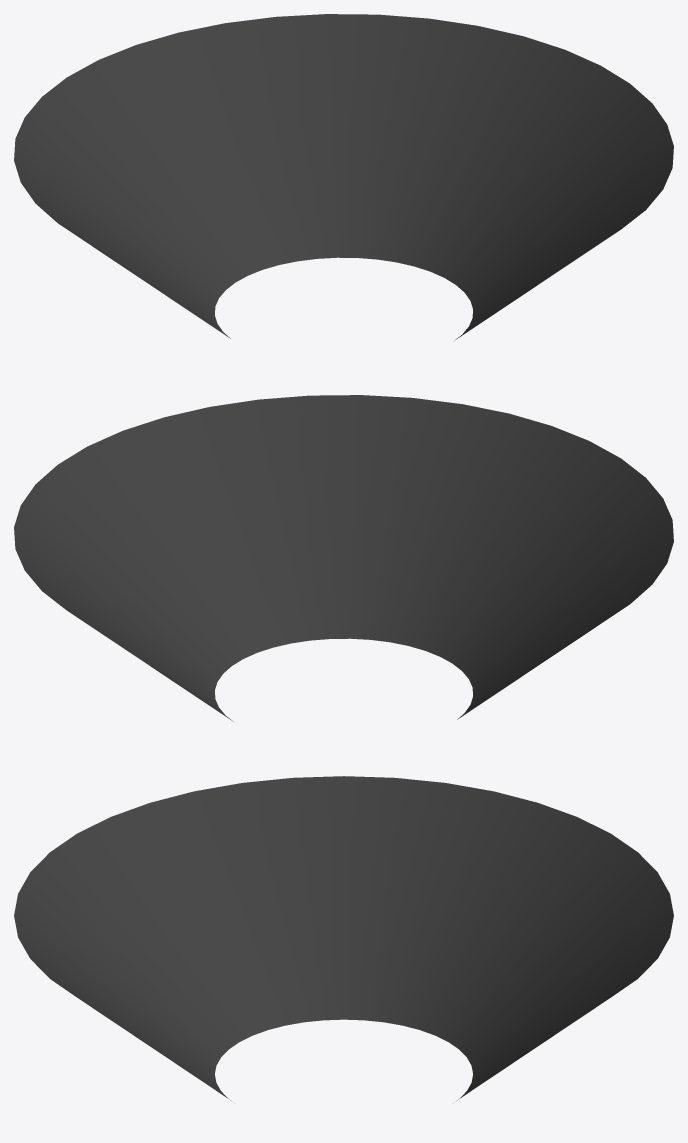
The picture shows the model from 3 angles, top to bottom: view 1: azimuth 30°, elevation 25°; view 2: azimuth 150°, elevation 25°; view 3: azimuth 270°, elevation 25°; orthographic projection.
Visible parts, largest first — view 1: 7bb7ba59ef28_1_Circle02.obj; view 2: 7bb7ba59ef28_1_Circle02.obj; view 3: 7bb7ba59ef28_1_Circle02.obj.
Boxes of the visible parts, left/top/right/bottom form: 7bb7ba59ef28_1_Circle02.obj: left=14, top=14, right=673, bottom=340; 7bb7ba59ef28_1_Circle02.obj: left=14, top=395, right=673, bottom=721; 7bb7ba59ef28_1_Circle02.obj: left=14, top=776, right=673, bottom=1100.
Size of the model in its own units: 0.1 by 0.0265 by 0.1.
1 material, 1 textured.
